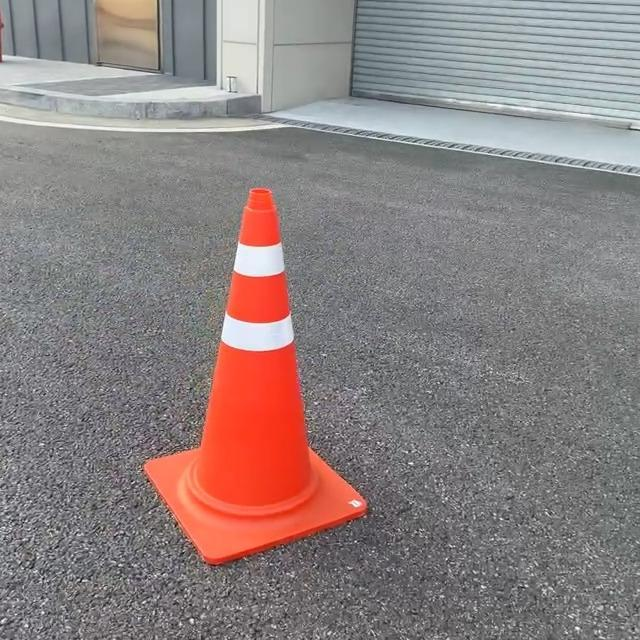fallen_object: (129, 177, 377, 574)
